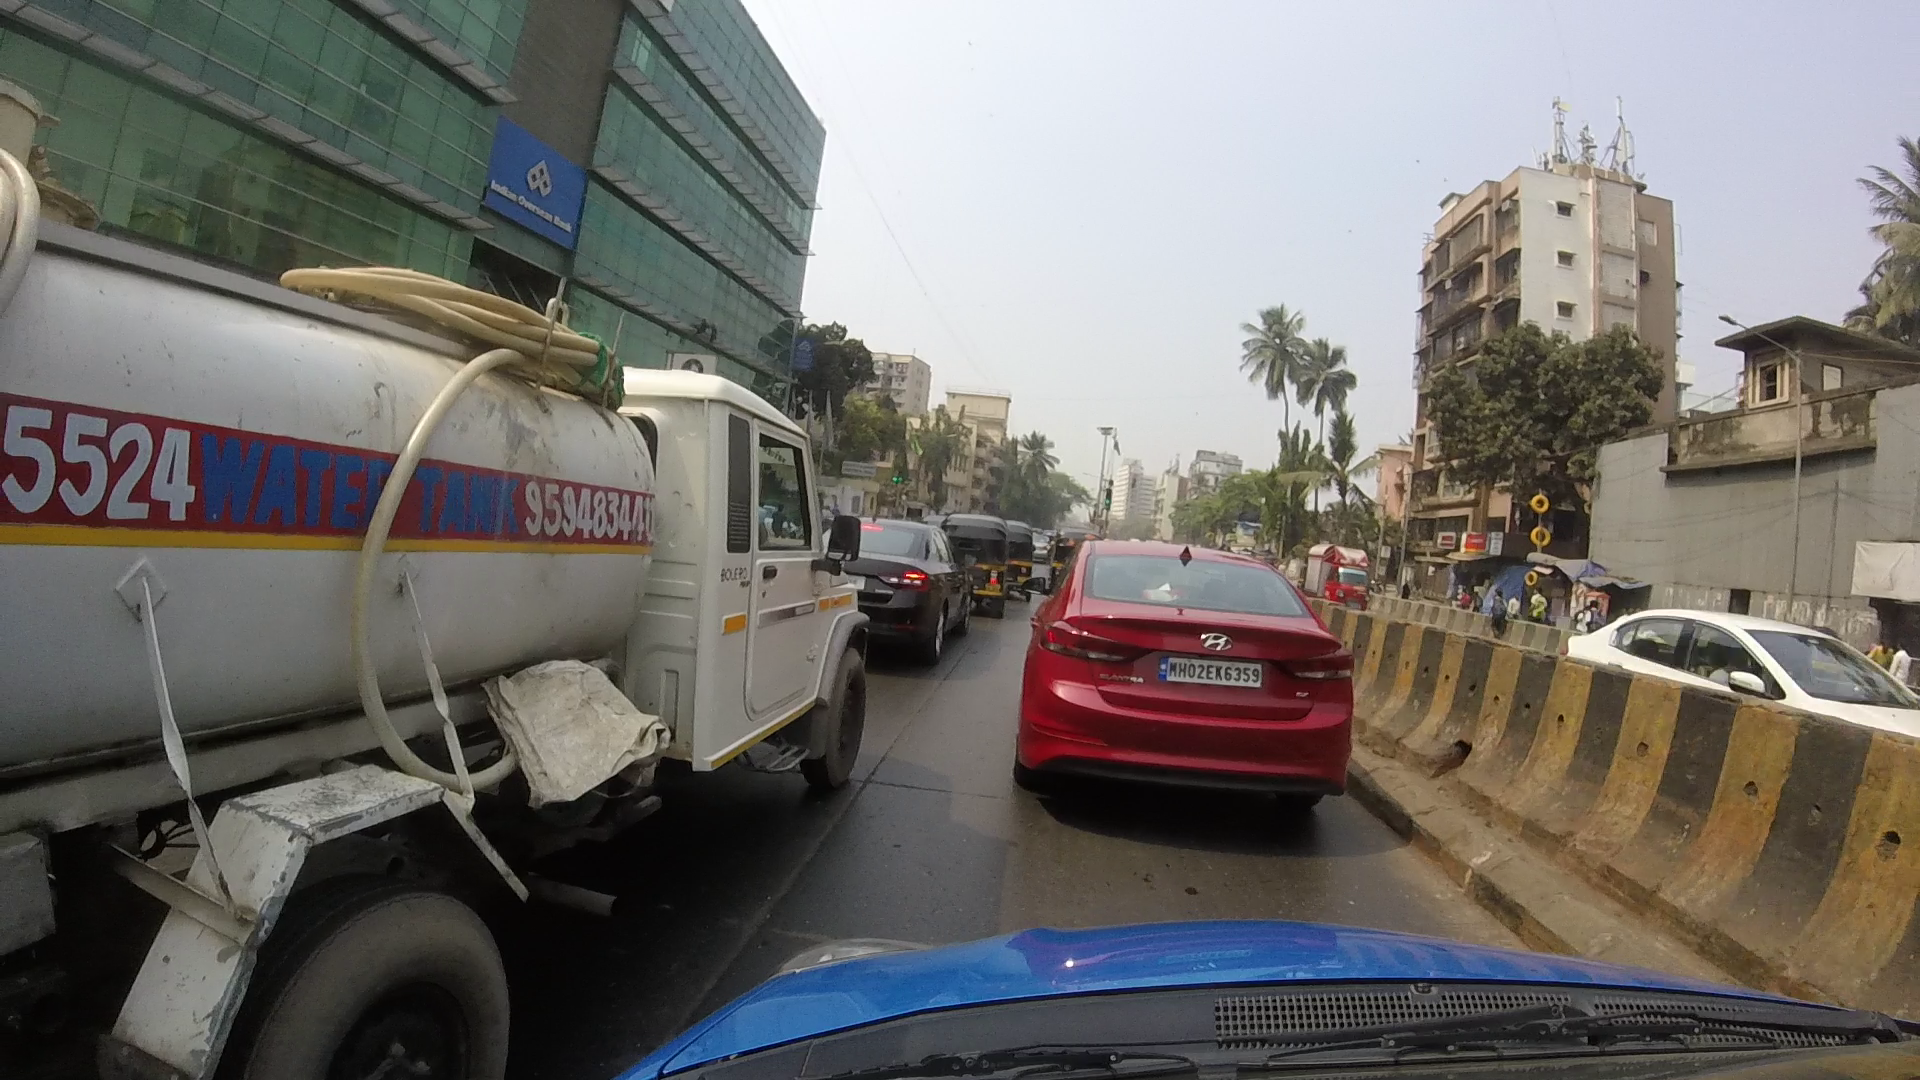car: (1004, 516, 1374, 878), (1520, 560, 1920, 827), (839, 463, 982, 684)
truck: (4, 171, 882, 1080)
